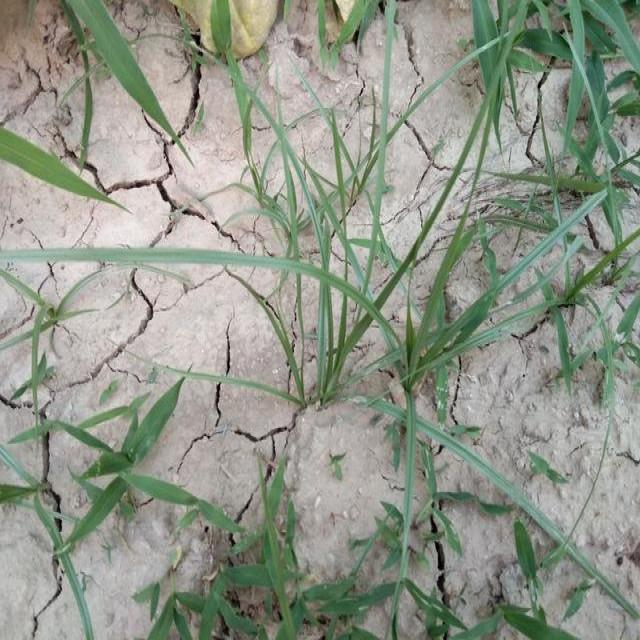weed: (255, 118, 498, 415), (478, 2, 640, 373), (37, 383, 220, 532), (56, 0, 217, 151), (374, 419, 460, 640), (197, 529, 363, 640), (0, 280, 95, 356)
